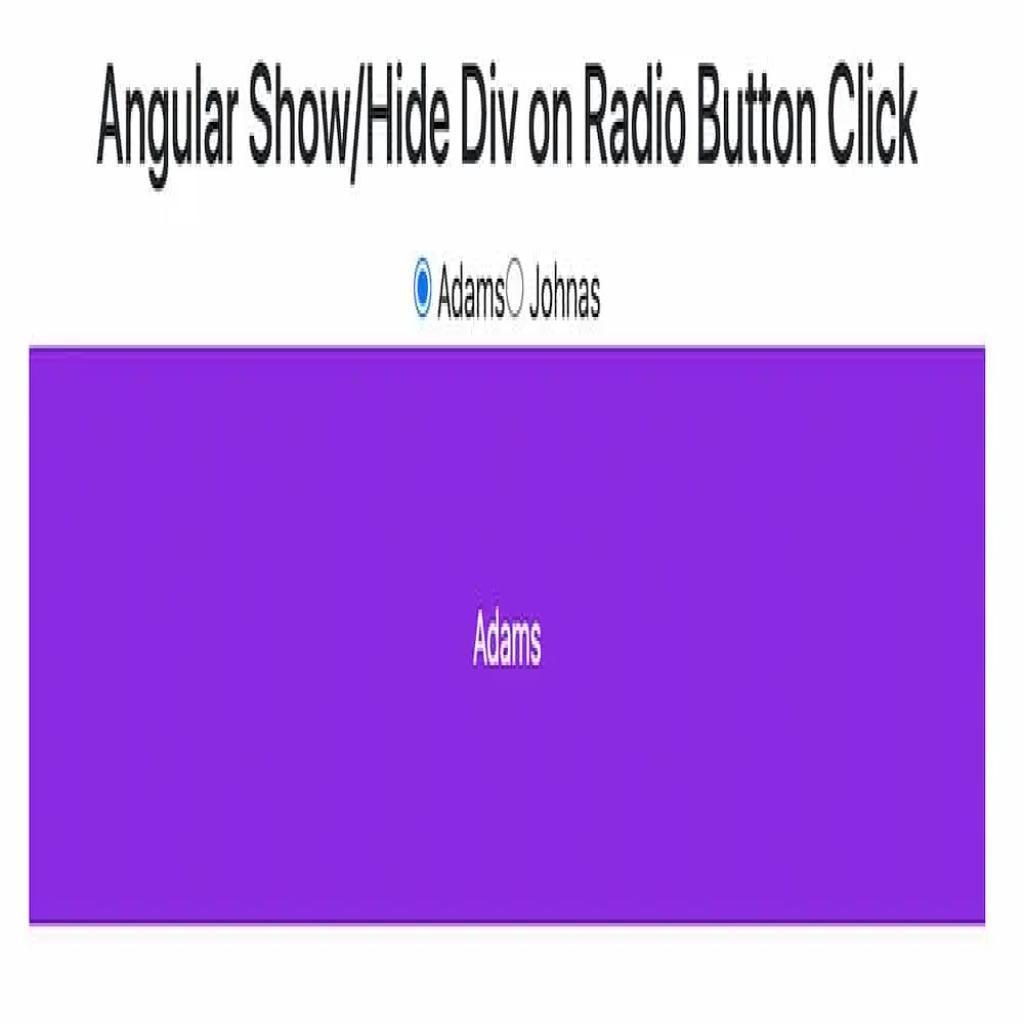radio: (410, 251, 436, 318), (507, 252, 528, 319)
